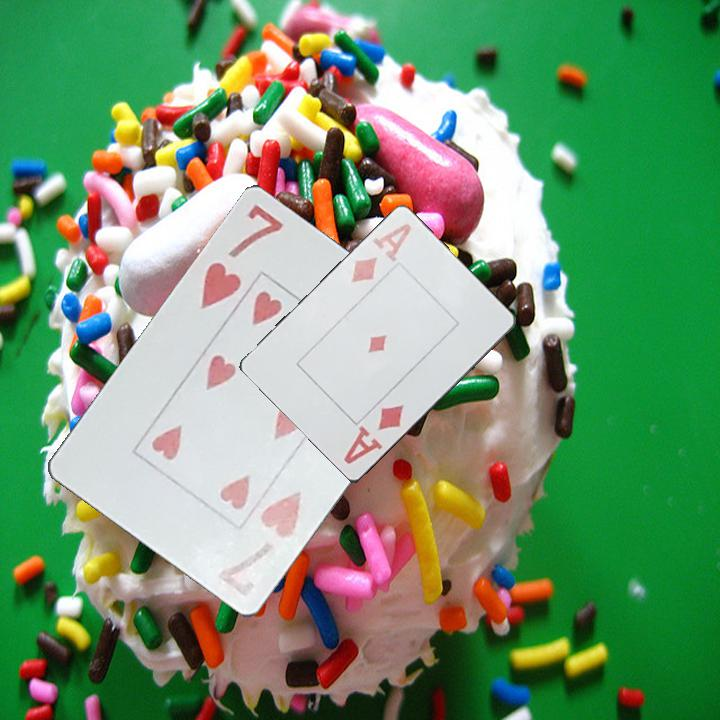7h: (213, 488, 305, 601), (197, 201, 287, 313)
Ad: (340, 401, 407, 468), (347, 220, 414, 287)
